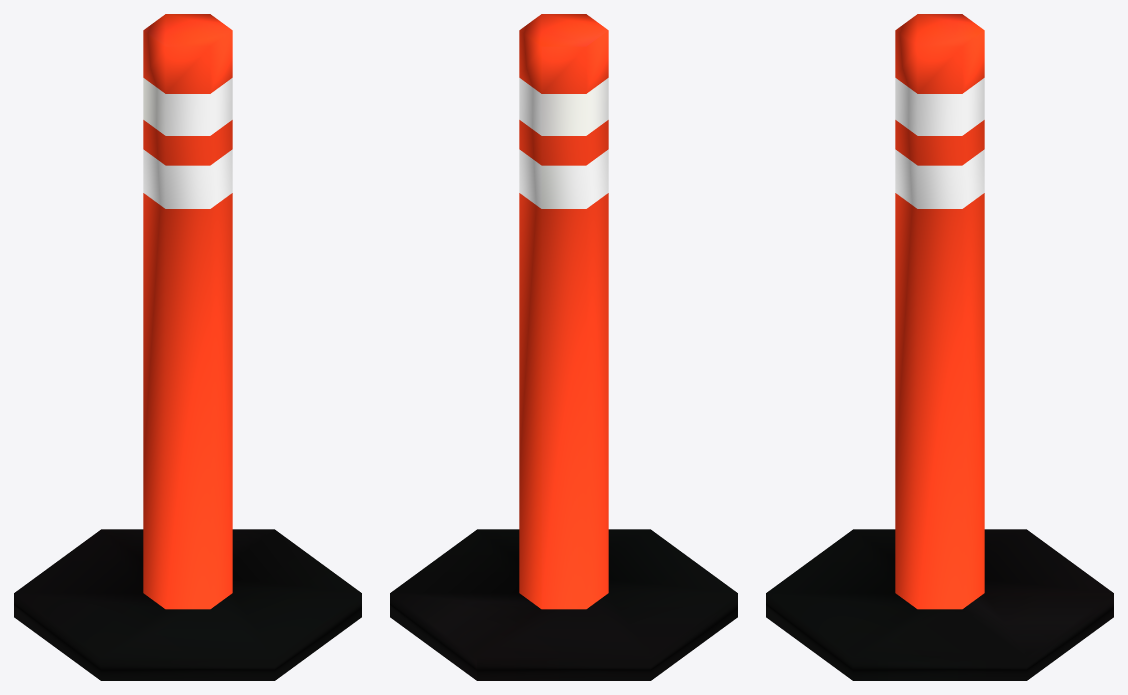
The model's file is TrafficConeOrange.glb.
3 renders of one model, left to right at view 1: azimuth 30°, elevation 25°; view 2: azimuth 150°, elevation 25°; view 3: azimuth 270°, elevation 25°, orthographic.
Parts seen in each view (by area): view 1: TrafficConeOrange; view 2: TrafficConeOrange; view 3: TrafficConeOrange.
Part boxes in pixels (bbox=[...]): TrafficConeOrange: bbox=[14, 14, 361, 680]; TrafficConeOrange: bbox=[390, 14, 737, 680]; TrafficConeOrange: bbox=[766, 14, 1113, 680].
Bounding box in the file's own units: 0.6049 × 1.3 × 0.6984.
Materials: 1 (1 with a texture image).
